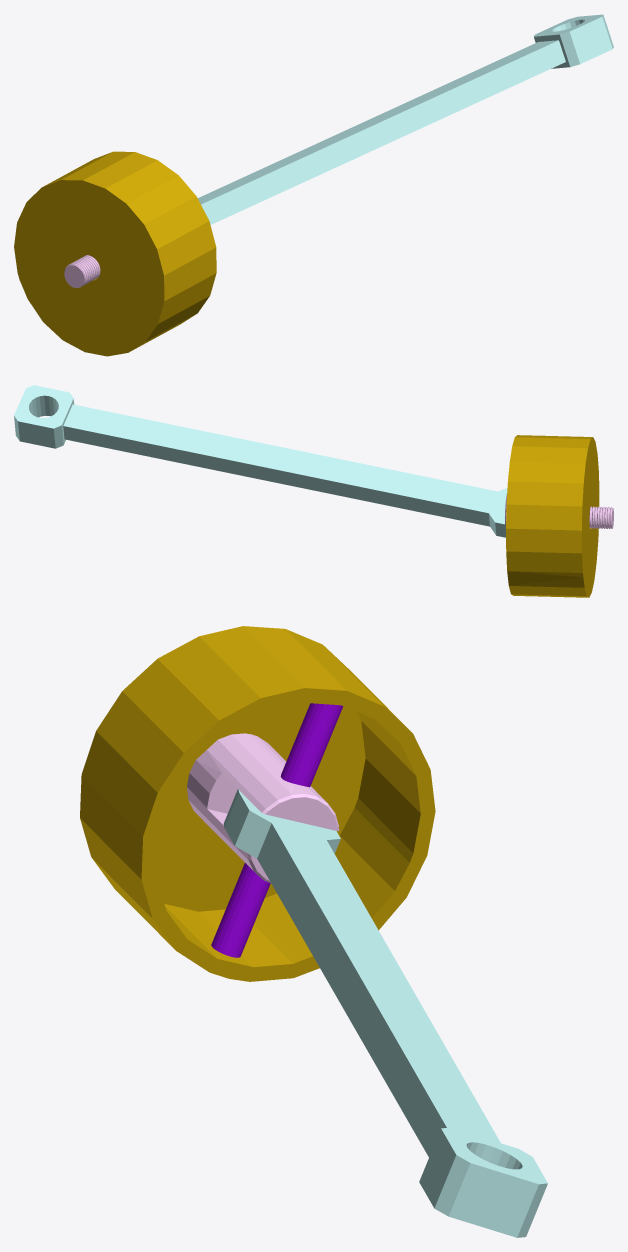
Rendered from piston_subassembly.glb.
The picture shows the model from 3 angles, top to bottom: view 1: azimuth 30°, elevation 25°; view 2: azimuth 150°, elevation 25°; view 3: azimuth 270°, elevation 25°; orthographic projection. The views are drawn at different scales.
Visible parts, largest first — view 1: Node1; view 2: Node1; view 3: Node1.
Boxes of the visible parts, x1,y1,x2,y2 form: Node1: (14,14,613,356); Node1: (14,385,613,597); Node1: (80,626,547,1237).
Bounding box in the file's own units: 48.63 × 12.77 × 18.41.
